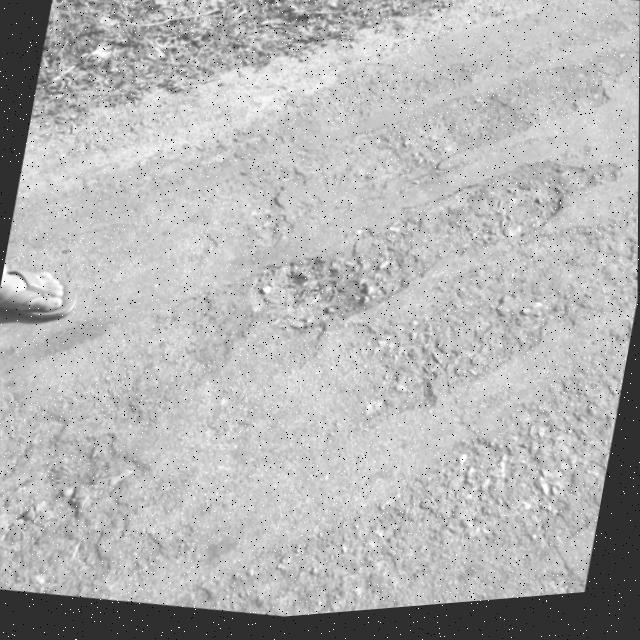Pothole: (245, 243, 390, 356)
